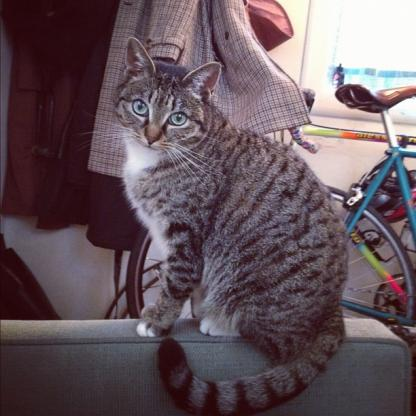Target: (112, 35, 352, 416)
